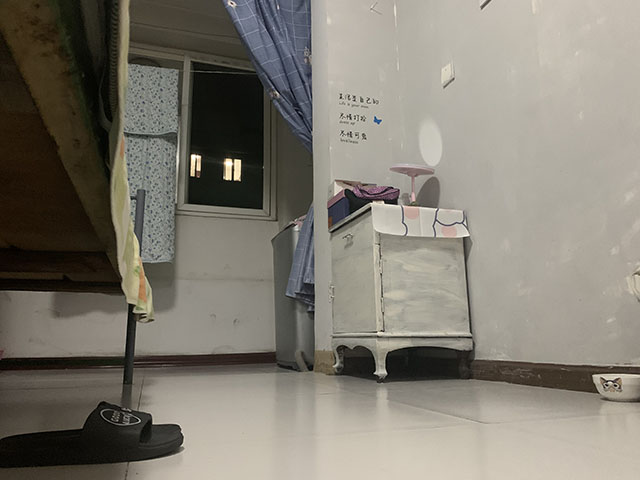bed: (1, 1, 157, 386)
cabinet: (328, 200, 475, 384)
slippers: (1, 400, 185, 469)
